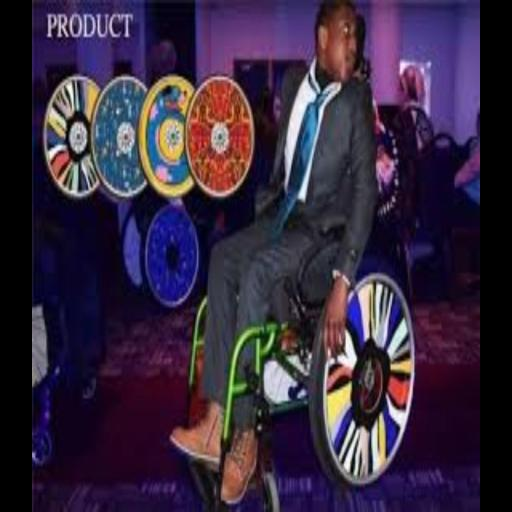cadeira_de_rodas: (191, 5, 449, 509)
